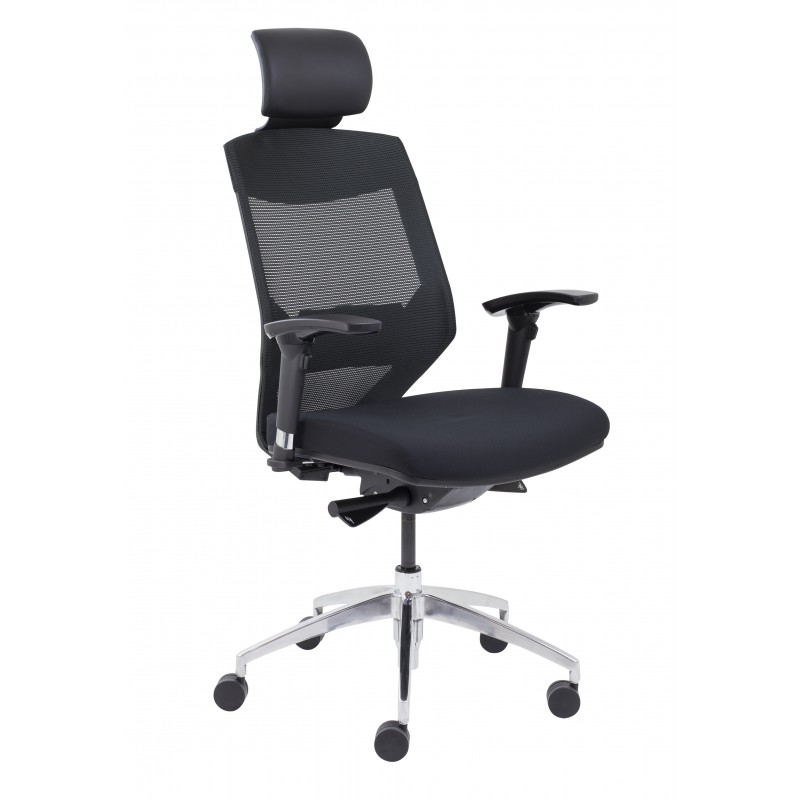chairs: (209, 21, 616, 768)
